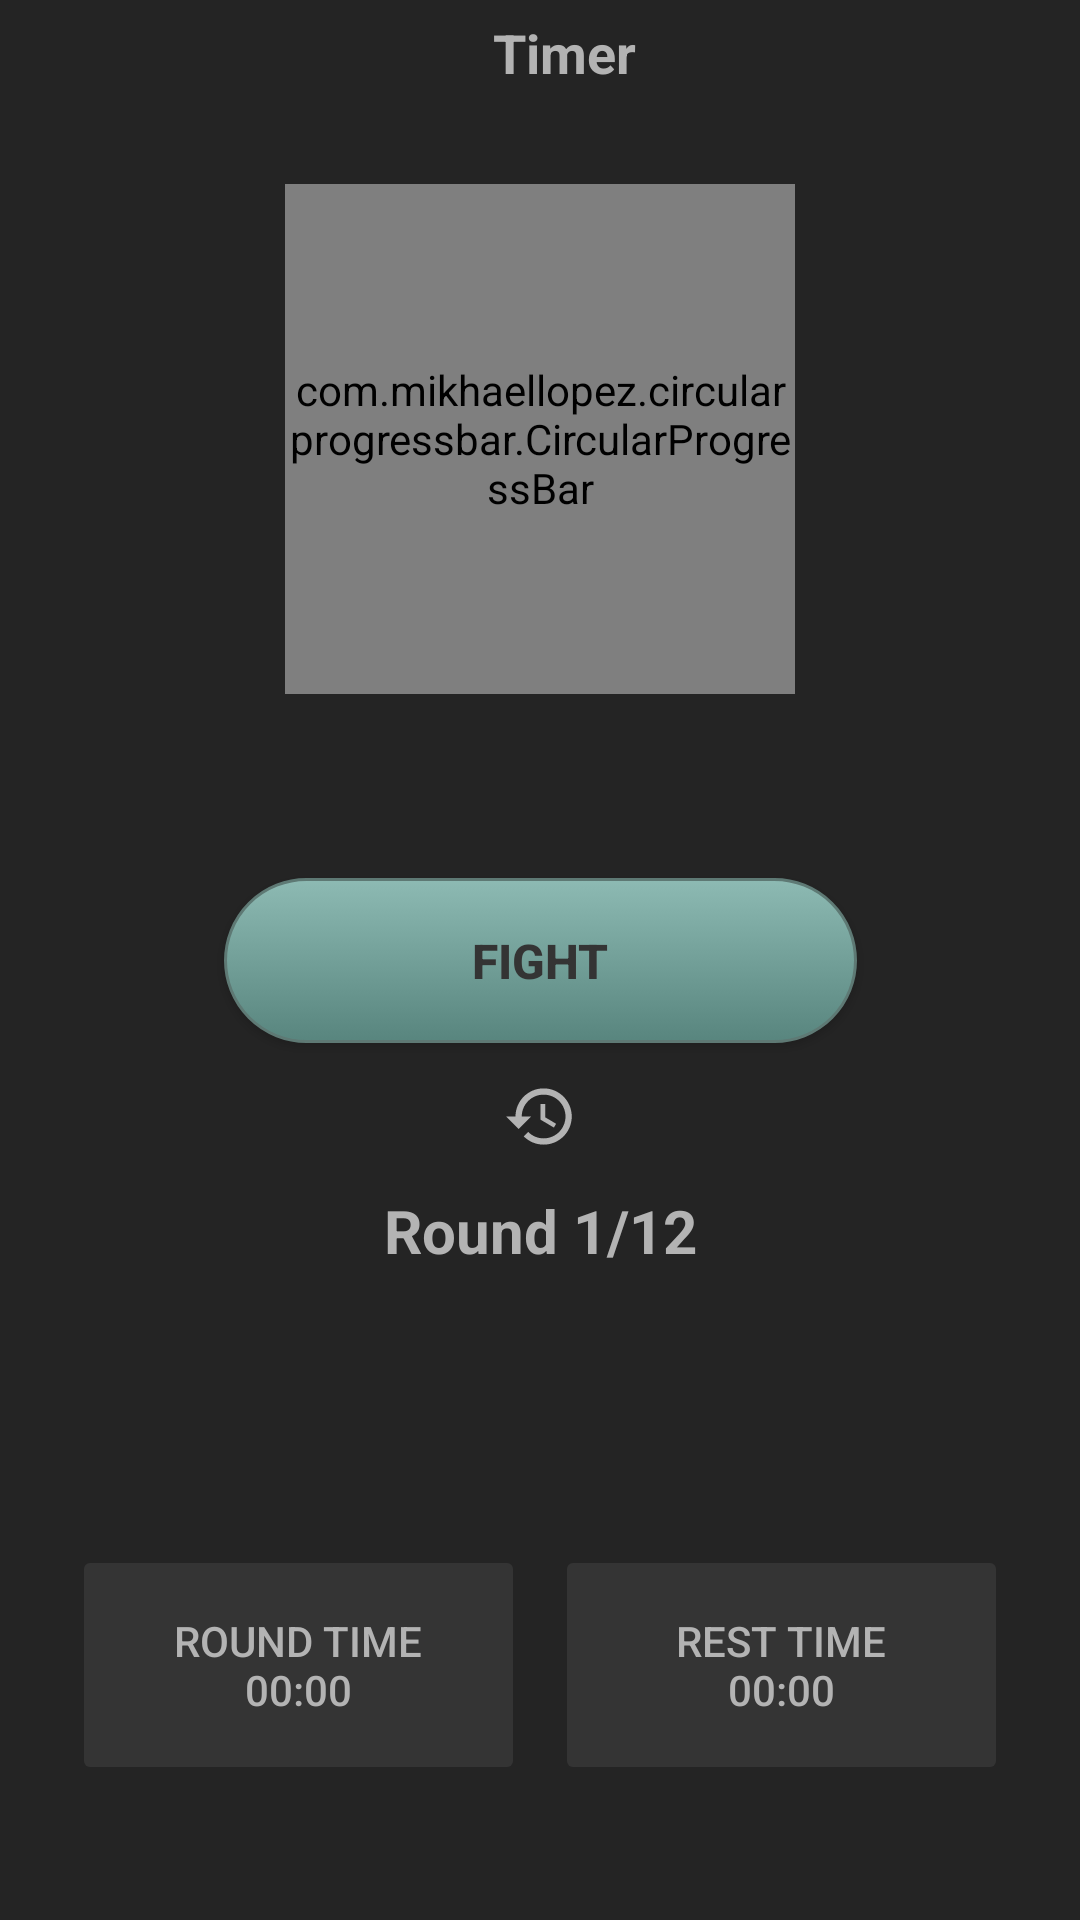

Icon click points for this 1080 × 1920 phone screenshot, format [x,y]:
reset: [539,1116]
